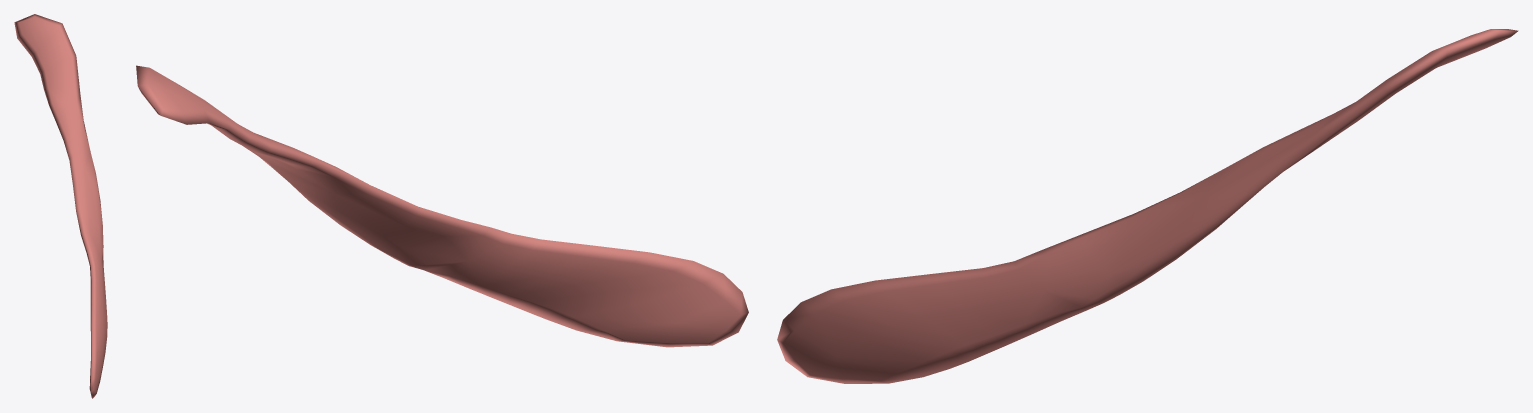
The picture shows the model from 3 angles, left to right: view 1: azimuth 30°, elevation 25°; view 2: azimuth 150°, elevation 25°; view 3: azimuth 270°, elevation 25°; orthographic projection. The views are drawn at different scales.
Parts seen in each view (by area): view 1: ZA_331ec357d429bf41; view 2: ZA_331ec357d429bf41; view 3: ZA_331ec357d429bf41.
Part boxes in pixels (bbox=[...]): ZA_331ec357d429bf41: bbox=[14, 14, 107, 398]; ZA_331ec357d429bf41: bbox=[136, 65, 748, 347]; ZA_331ec357d429bf41: bbox=[777, 29, 1518, 383].
Bounding box in the file's own units: 0.00873 × 0.0138 × 0.0202.
